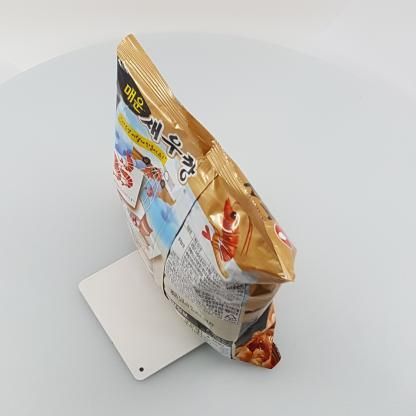Plastic Packaging: (96, 30, 302, 378)
